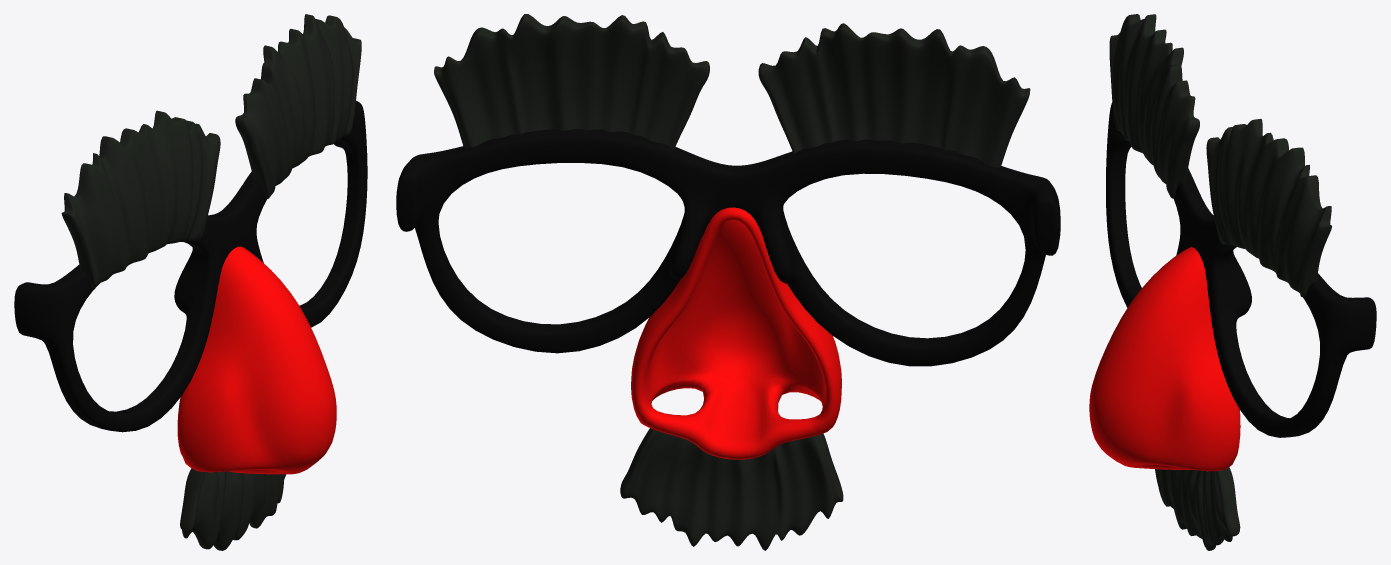
3 views of the same model, side by side, from view 1: azimuth 30°, elevation 25°; view 2: azimuth 150°, elevation 25°; view 3: azimuth 270°, elevation 25° (orthographic). The views are drawn at different scales.
Parts seen in each view (by area): view 1: 322; view 2: 322; view 3: 322.
Boxes of the visible parts, left/top/right/bottom form: 322: left=14, top=14, right=367, bottom=550; 322: left=396, top=14, right=1060, bottom=550; 322: left=1089, top=14, right=1376, bottom=550.
Size of the model in its own units: 68.82 by 38.57 by 66.96.
